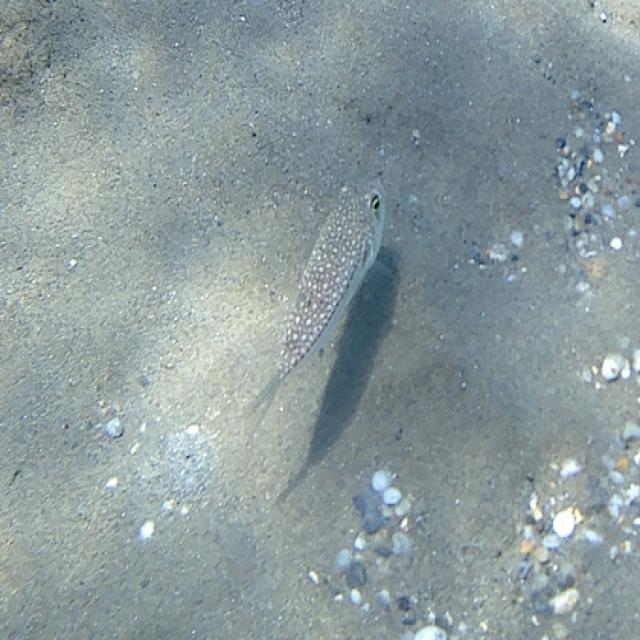Balik: (255, 190, 385, 421)
